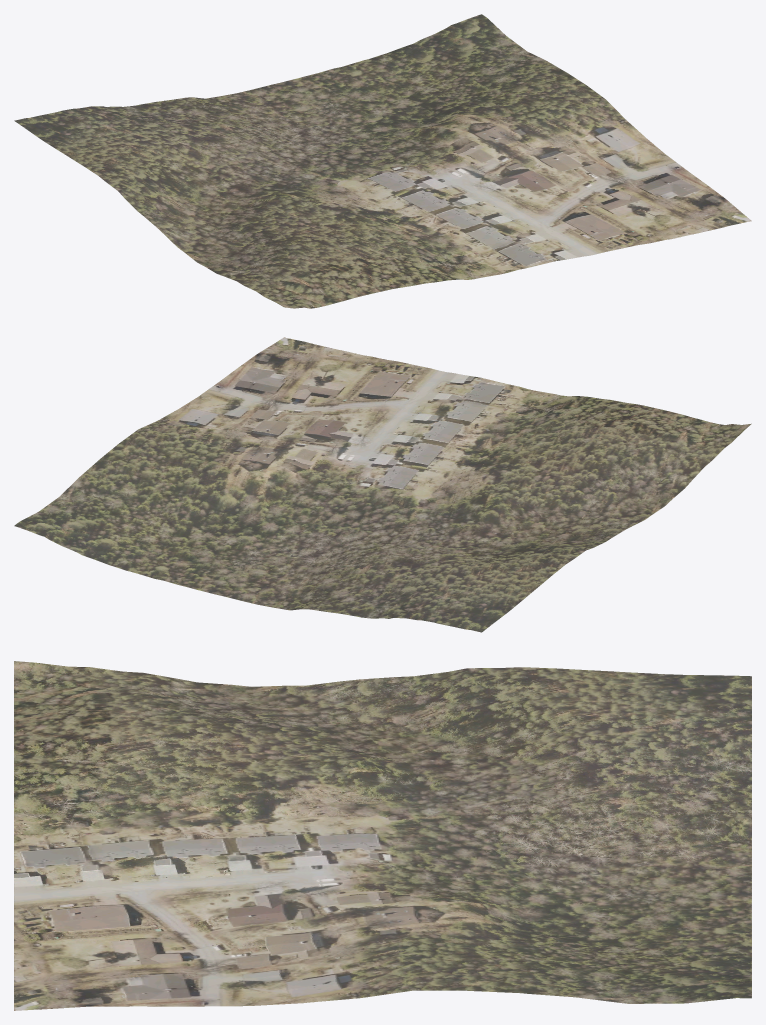
File: CM_Terrain_24492916_6815084.fbx
3 views of the same model, one above another, from view 1: azimuth 30°, elevation 25°; view 2: azimuth 150°, elevation 25°; view 3: azimuth 270°, elevation 25° (orthographic). The views are drawn at different scales.
Parts seen in each view (by area): view 1: CM_Terrain_24492916_6815084_LOD0; view 2: CM_Terrain_24492916_6815084_LOD0; view 3: CM_Terrain_24492916_6815084_LOD0.
Boxes of the visible parts, box(x1,y1,x2,y2) form: CM_Terrain_24492916_6815084_LOD0: box(14, 14, 751, 308); CM_Terrain_24492916_6815084_LOD0: box(14, 337, 751, 632); CM_Terrain_24492916_6815084_LOD0: box(14, 661, 751, 1010).
Size of what is drawn, in the model's own units: 205 by 15.91 by 205.
